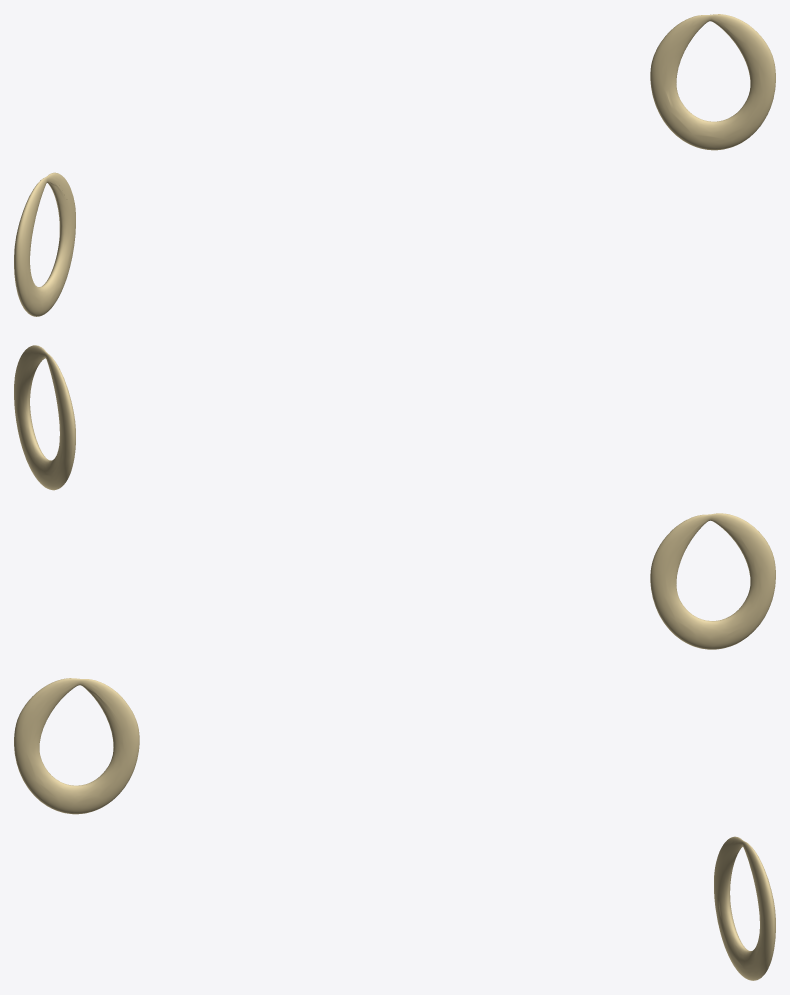
The model's file is earrings-earrings-b0ce4549.glb.
The picture shows the model from 3 angles, top to bottom: view 1: azimuth 30°, elevation 25°; view 2: azimuth 150°, elevation 25°; view 3: azimuth 330°, elevation 25°; orthographic projection.
Visible parts, largest first — view 1: Geo_Female_White_Earrings.001; view 2: Geo_Female_White_Earrings.001; view 3: Geo_Female_White_Earrings.001.
Part boxes in pixels (box(x1,y1,x2,y2)): Geo_Female_White_Earrings.001: box(14, 14, 775, 316); Geo_Female_White_Earrings.001: box(14, 345, 775, 649); Geo_Female_White_Earrings.001: box(14, 678, 775, 980).
Size of the model in its own units: 1.37 by 0.2347 by 0.1123.
